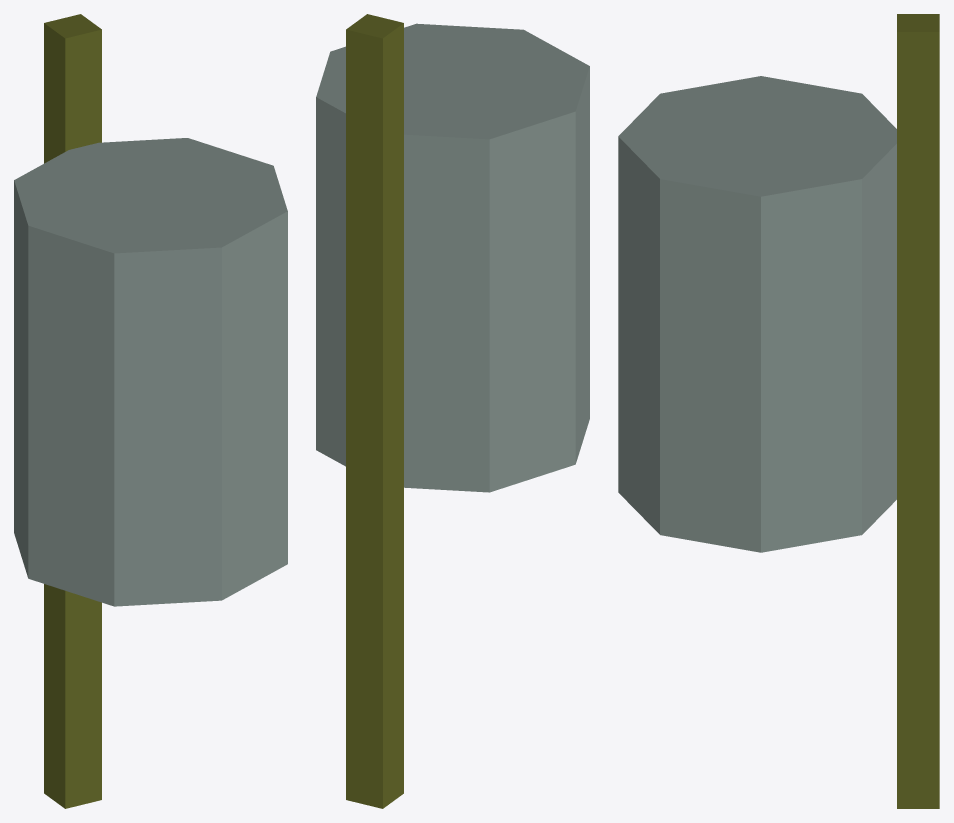
The model's file is SM_KitSueltas_v3_LOD0.fbx.
The picture shows the model from 3 angles, left to right: view 1: azimuth 30°, elevation 25°; view 2: azimuth 150°, elevation 25°; view 3: azimuth 270°, elevation 25°; orthographic projection.
Parts seen in each view (by area): view 1: SM_bloques.kit_sueltas_v3_LOD0; view 2: SM_bloques.kit_sueltas_v3_LOD0; view 3: SM_bloques.kit_sueltas_v3_LOD0.
Part boxes in pixels (left/top/right/bottom): SM_bloques.kit_sueltas_v3_LOD0: left=14, top=14, right=287, bottom=808; SM_bloques.kit_sueltas_v3_LOD0: left=316, top=14, right=589, bottom=808; SM_bloques.kit_sueltas_v3_LOD0: left=618, top=14, right=939, bottom=808.
Bounding box in the file's own units: 0.4 × 1.2 × 0.45.
